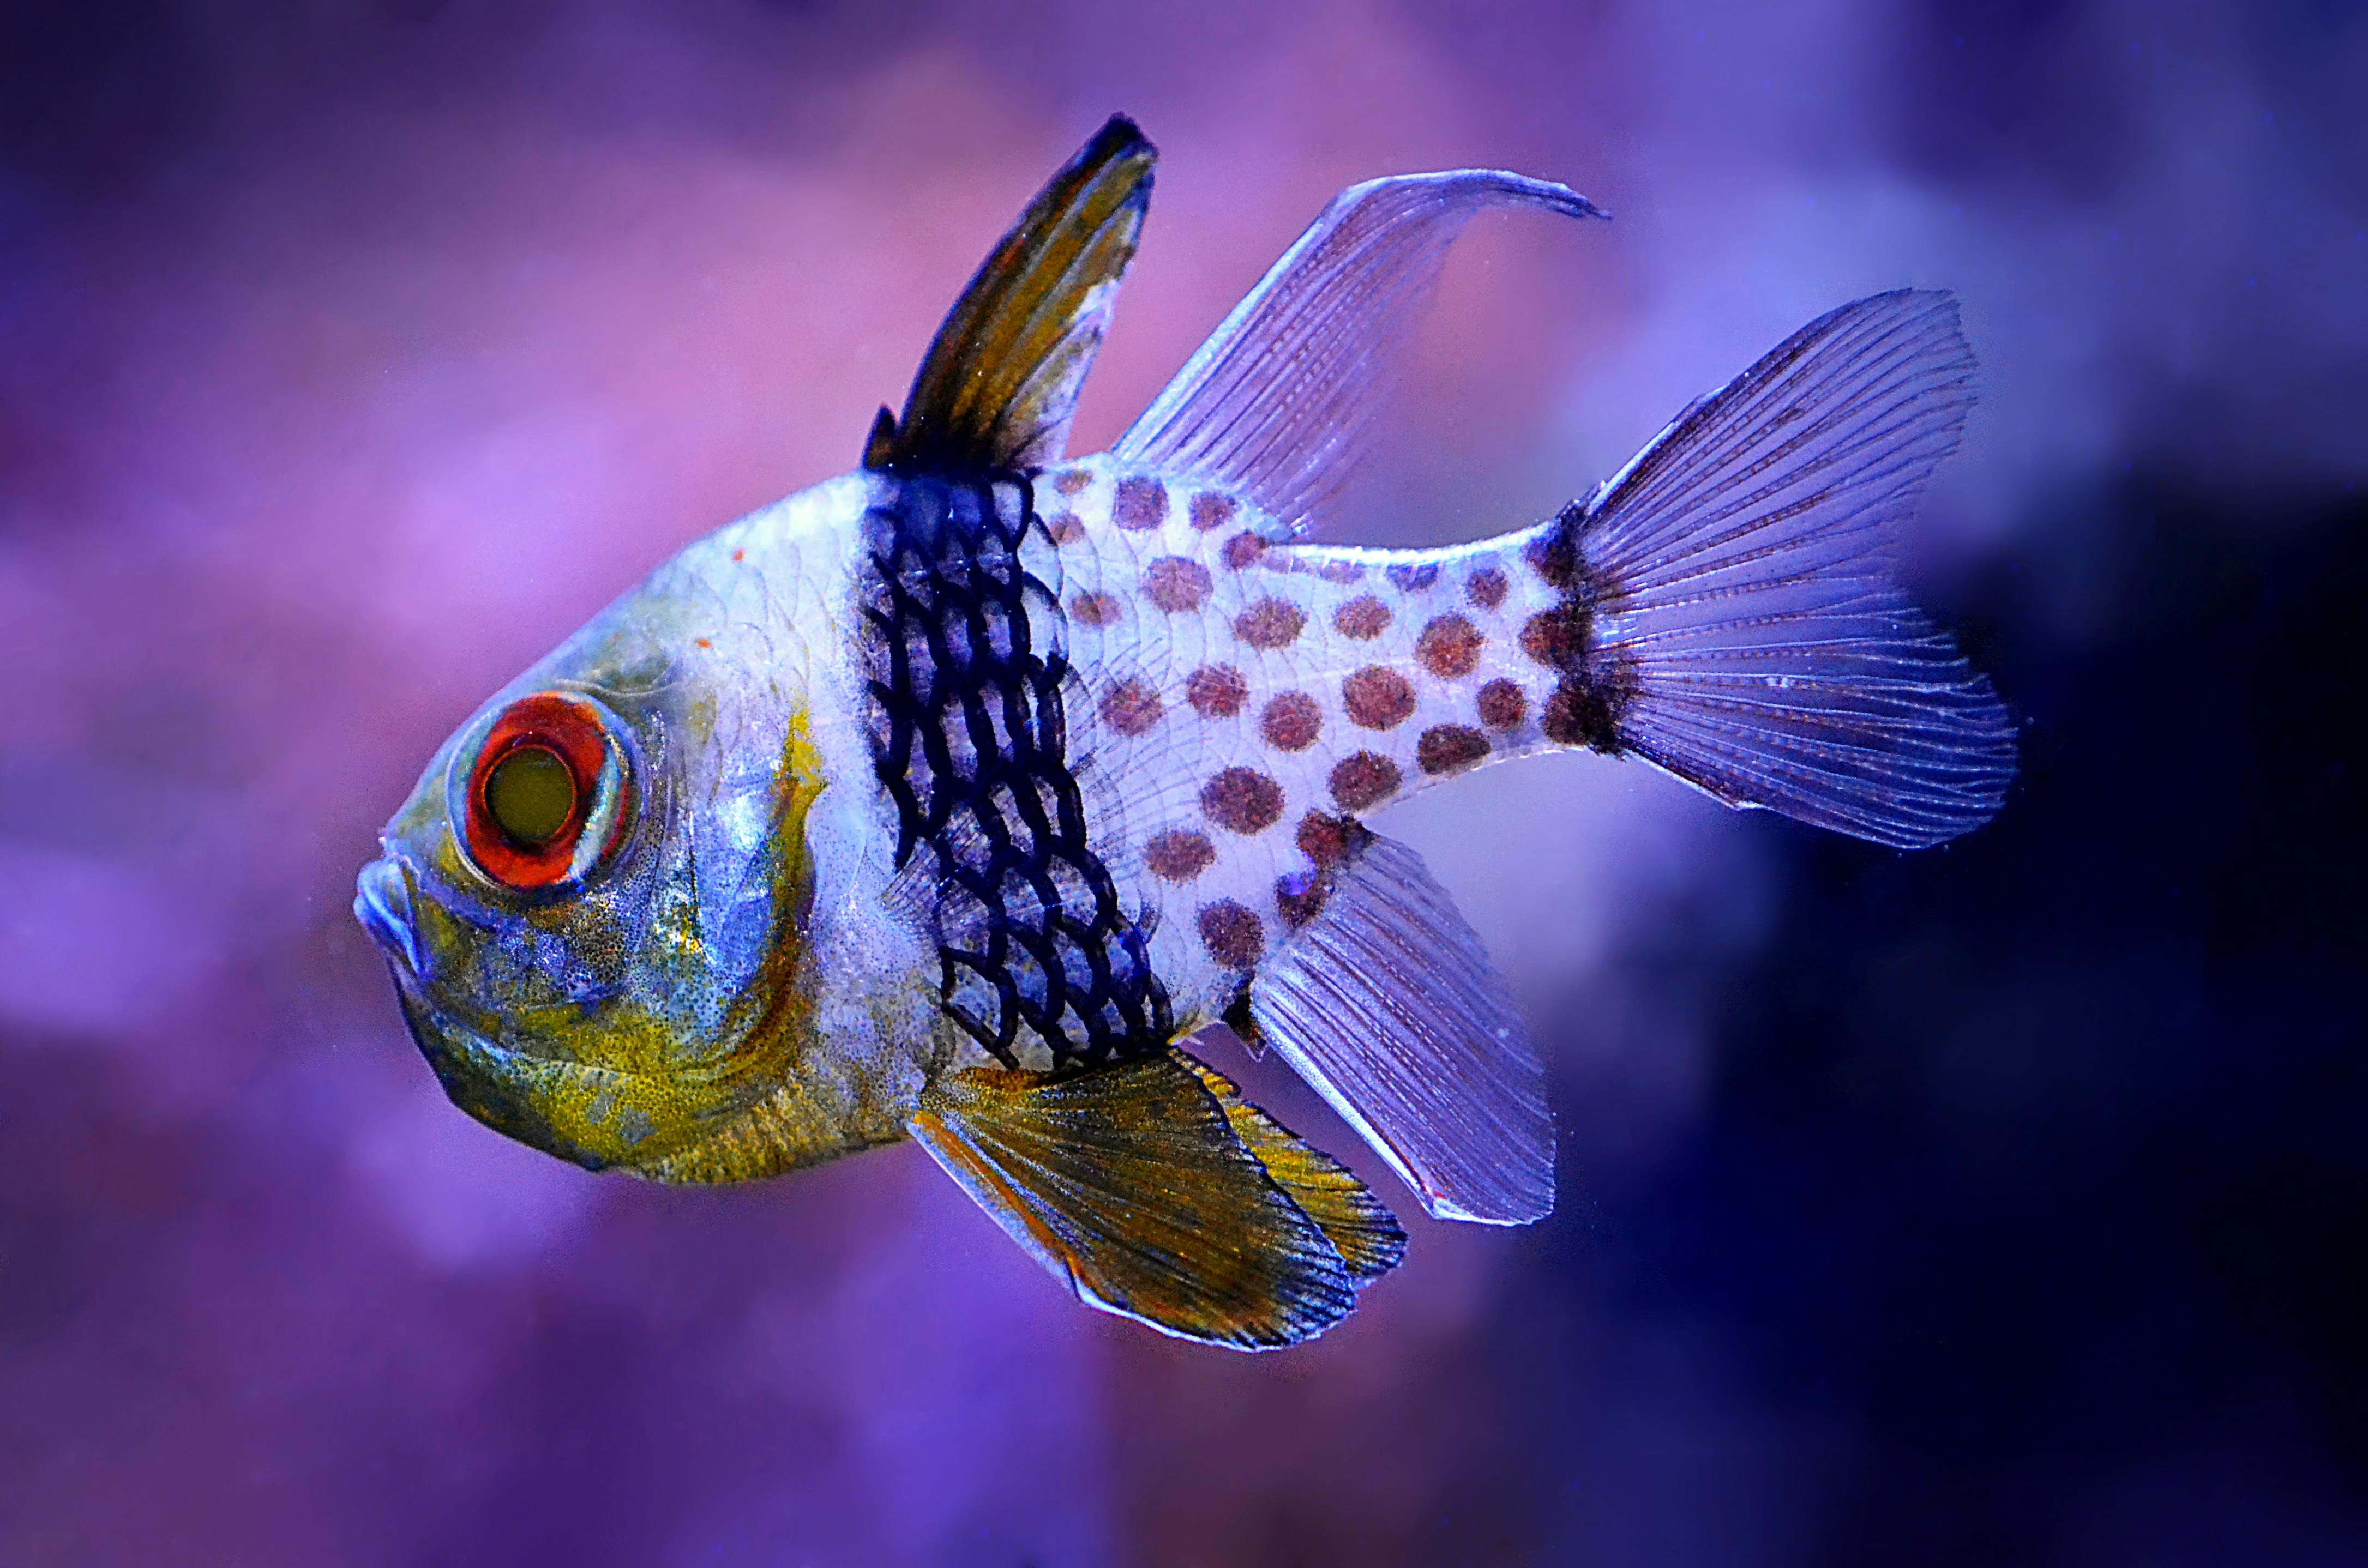fishSmall: (345, 171, 2021, 1353)
